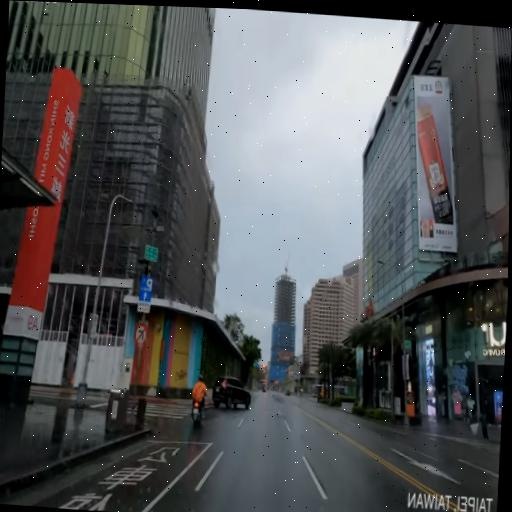Car: (210, 368, 252, 413), (311, 383, 347, 400)
